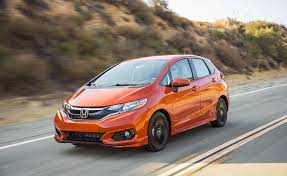Honda: (52, 52, 230, 151)
